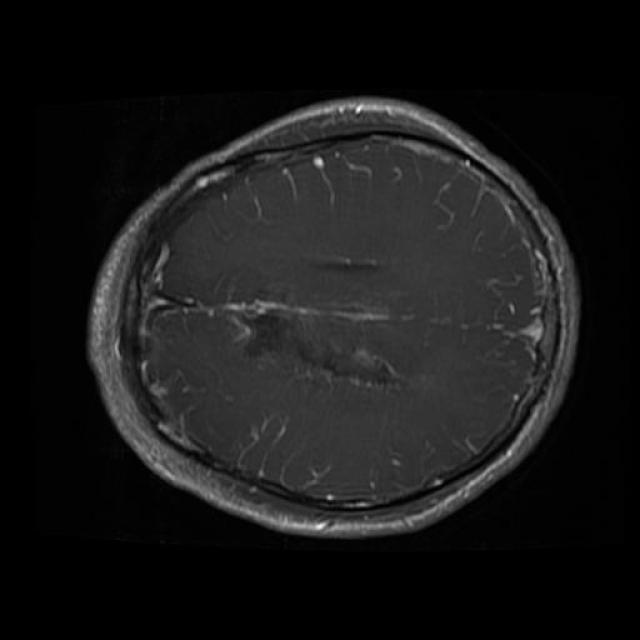Glioma: (238, 311, 297, 356)
